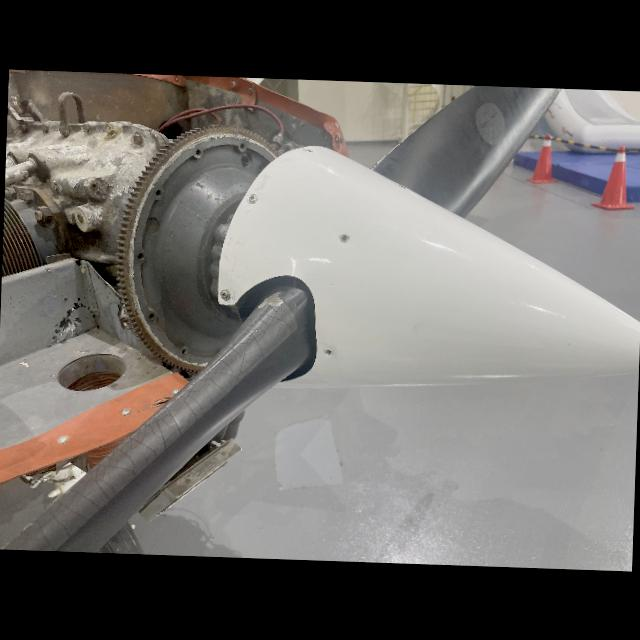Missing Fastener: (322, 346, 336, 357), (300, 146, 316, 155)
